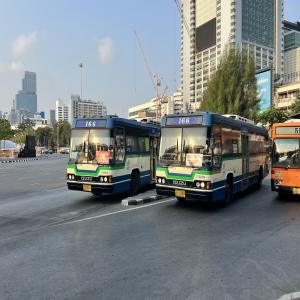BMTA-bus: (156, 112, 270, 208), (66, 116, 159, 197), (269, 115, 300, 202)
Bus Line Number: (177, 115, 191, 126), (84, 119, 97, 129), (294, 126, 300, 134)
Bus Side Number: (195, 174, 207, 180), (100, 169, 110, 175)
Destination Sign: (186, 153, 203, 168), (94, 150, 109, 164)
